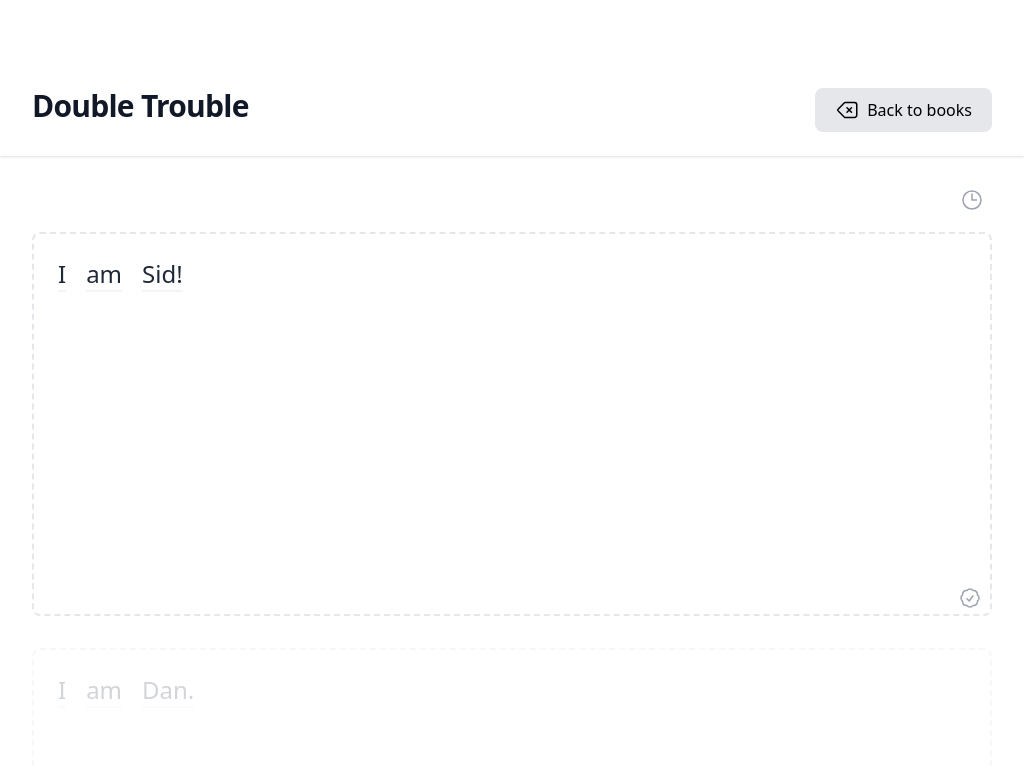
Scenario: Reading › Story › clicking on the show history button
What coordinates should you click on to do the following:
click the button with test id "history-button"
I would click on:
 (972, 200)
Its box is [952,180,992,220].
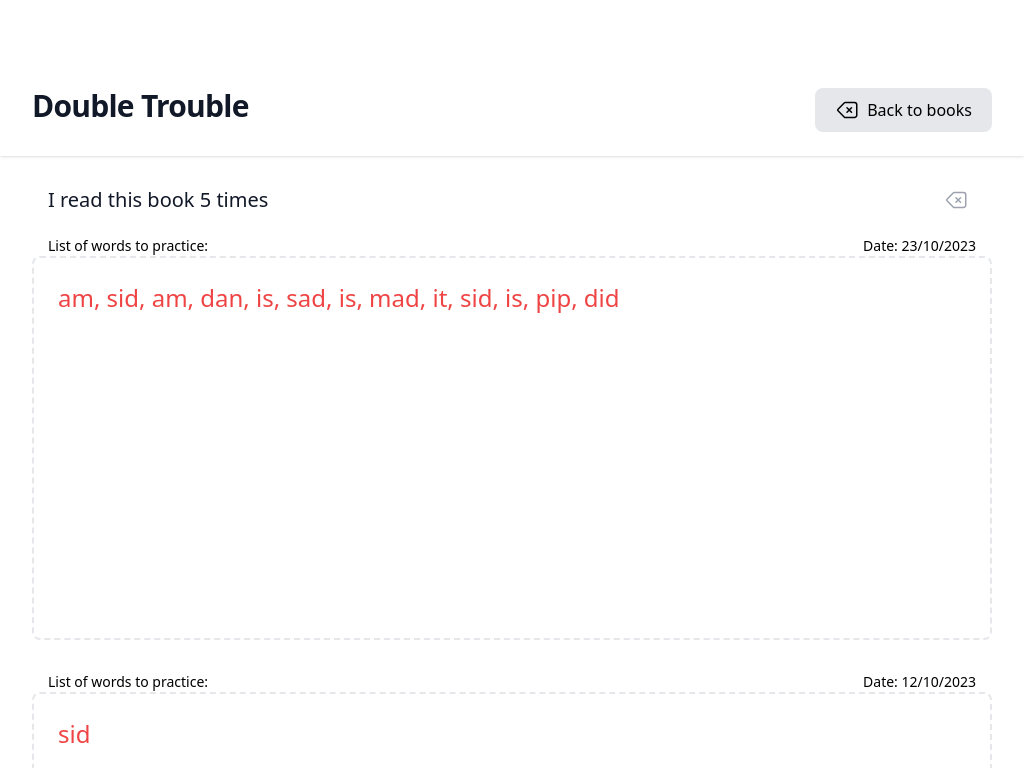
Now no elements with test id "sentence-block" are shown
Now the number of elements with test id "history-block" is 5
